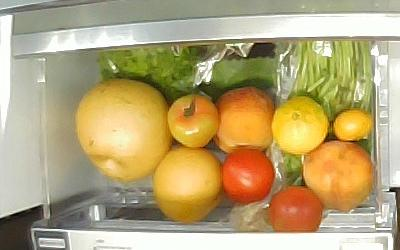peach: (302, 142, 373, 213), (214, 86, 273, 155)
pear: (74, 80, 170, 179), (152, 146, 220, 224)
tangerine: (270, 95, 328, 154), (332, 108, 372, 140)
tomato: (218, 149, 275, 203), (166, 95, 220, 149), (269, 186, 322, 232)
